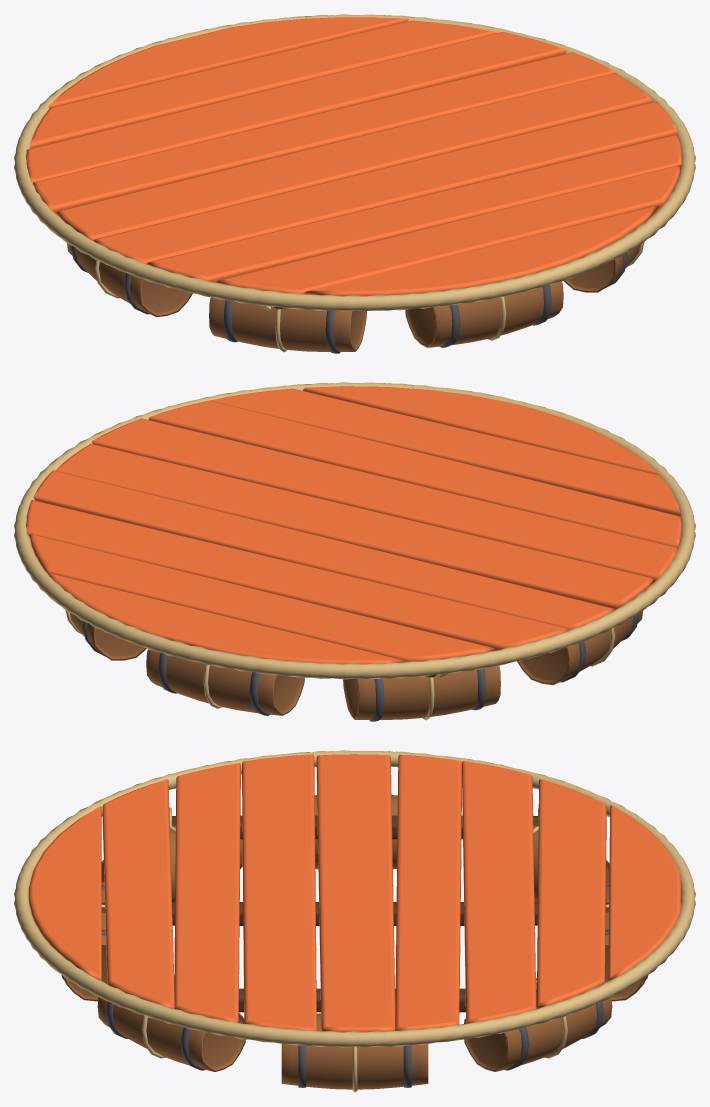
The model's file is SharkBaitRaft.obj.
3 renders of one model, top to bottom at view 1: azimuth 30°, elevation 25°; view 2: azimuth 150°, elevation 25°; view 3: azimuth 270°, elevation 25°, orthographic.
Parts seen in each view (by area): view 1: Deck, Rope, Barrels, Hoops; view 2: Deck, Rope, Barrels, Hoops; view 3: Deck, Rope, Barrels, Hoops, Beams.
Part boxes in pixels (x1,y1,x2,y2): Deck: (26,17,681,296); Rope: (14,14,695,352); Barrels: (67,243,639,351); Hoops: (71,245,627,353); Deck: (26,386,681,664); Rope: (14,382,695,720); Barrels: (70,611,642,719); Hoops: (82,614,638,721); Deck: (28,754,681,1032); Rope: (14,750,695,1092); Barrels: (64,795,646,1089); Hoops: (61,885,648,1087); Beams: (101,815,608,1012).
Size of the model in its own units: 13.99 by 2 by 13.98.
